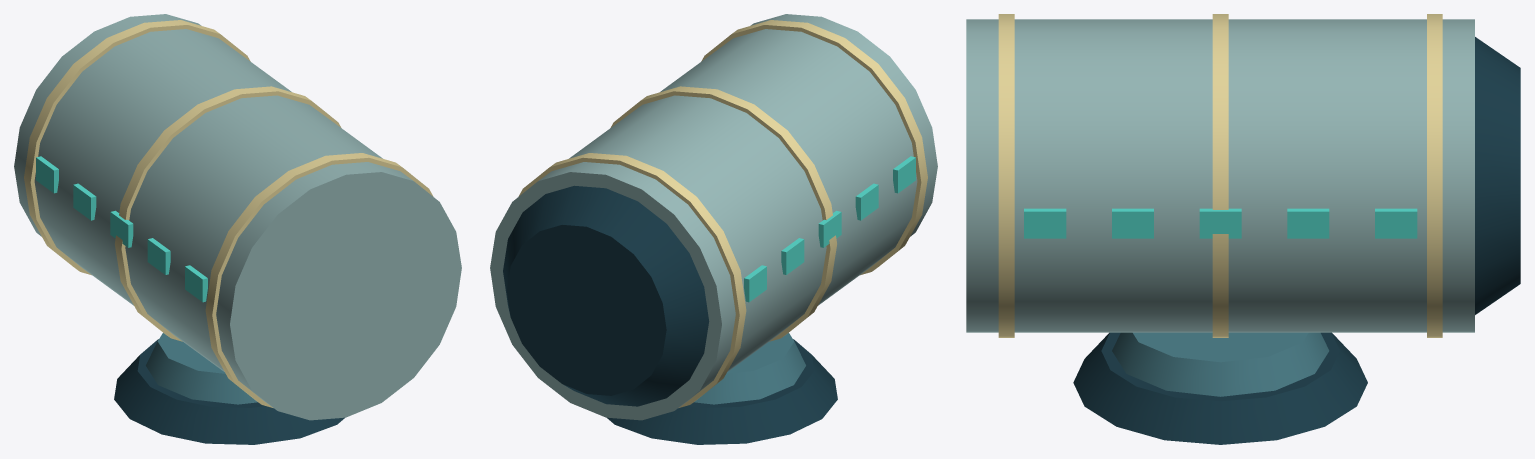
Rendered from pelagic_high_pressure--habitat_pod.glb.
The picture shows the model from 3 angles, left to right: view 1: azimuth 30°, elevation 25°; view 2: azimuth 150°, elevation 25°; view 3: azimuth 270°, elevation 25°; orthographic projection. The views are drawn at different scales.
Visible parts, largest first — view 1: sealed_pod_3, mount_adapter_1, containment_band_6, containment_band_4, rotation_bearing_2, containment_band_5, habitat_view_port_11, habitat_view_port_9, habitat_view_port_8, habitat_view_port_12, habitat_view_port_10; view 2: sealed_pod_3, pod_end_7, mount_adapter_1, containment_band_4, containment_band_6, rotation_bearing_2, containment_band_5, habitat_view_port_9, habitat_view_port_11, habitat_view_port_12, habitat_view_port_8, habitat_view_port_10; view 3: sealed_pod_3, mount_adapter_1, rotation_bearing_2, pod_end_7, containment_band_6, containment_band_4, containment_band_5, habitat_view_port_13, habitat_view_port_14, habitat_view_port_17, habitat_view_port_16, habitat_view_port_15.
Boxes of the visible parts, <box> form: sealed_pod_3: <box>14,14,461,420</box>; mount_adapter_1: <box>114,339,344,444</box>; containment_band_6: <box>205,153,433,407</box>; containment_band_4: <box>24,20,250,275</box>; rotation_bearing_2: <box>146,333,257,404</box>; containment_band_5: <box>115,86,341,341</box>; habitat_view_port_11: <box>147,238,170,274</box>; habitat_view_port_9: <box>73,183,96,220</box>; habitat_view_port_8: <box>36,156,58,193</box>; habitat_view_port_12: <box>185,265,207,302</box>; habitat_view_port_10: <box>110,210,133,247</box>; sealed_pod_3: <box>490,14,937,420</box>; pod_end_7: <box>503,185,709,406</box>; mount_adapter_1: <box>607,339,837,444</box>; containment_band_4: <box>518,153,746,407</box>; containment_band_6: <box>701,20,927,275</box>; rotation_bearing_2: <box>694,333,805,404</box>; containment_band_5: <box>610,86,836,341</box>; habitat_view_port_9: <box>781,238,804,274</box>; habitat_view_port_11: <box>855,183,878,220</box>; habitat_view_port_12: <box>893,156,915,193</box>; habitat_view_port_8: <box>744,265,766,302</box>; habitat_view_port_10: <box>818,210,841,247</box>; sealed_pod_3: <box>966,19,1474,332</box>; mount_adapter_1: <box>1073,332,1367,444</box>; rotation_bearing_2: <box>1112,332,1329,396</box>; pod_end_7: <box>1475,37,1520,314</box>; containment_band_6: <box>998,14,1014,337</box>; containment_band_4: <box>1427,14,1442,337</box>; containment_band_5: <box>1212,14,1228,337</box>; habitat_view_port_13: <box>1375,208,1417,238</box>; habitat_view_port_14: <box>1287,208,1329,238</box>; habitat_view_port_17: <box>1024,208,1066,238</box>; habitat_view_port_16: <box>1112,208,1153,238</box>; habitat_view_port_15: <box>1199,208,1241,238</box>.
Size of the model in its own units: 22.32 by 26.76 by 37.92.
